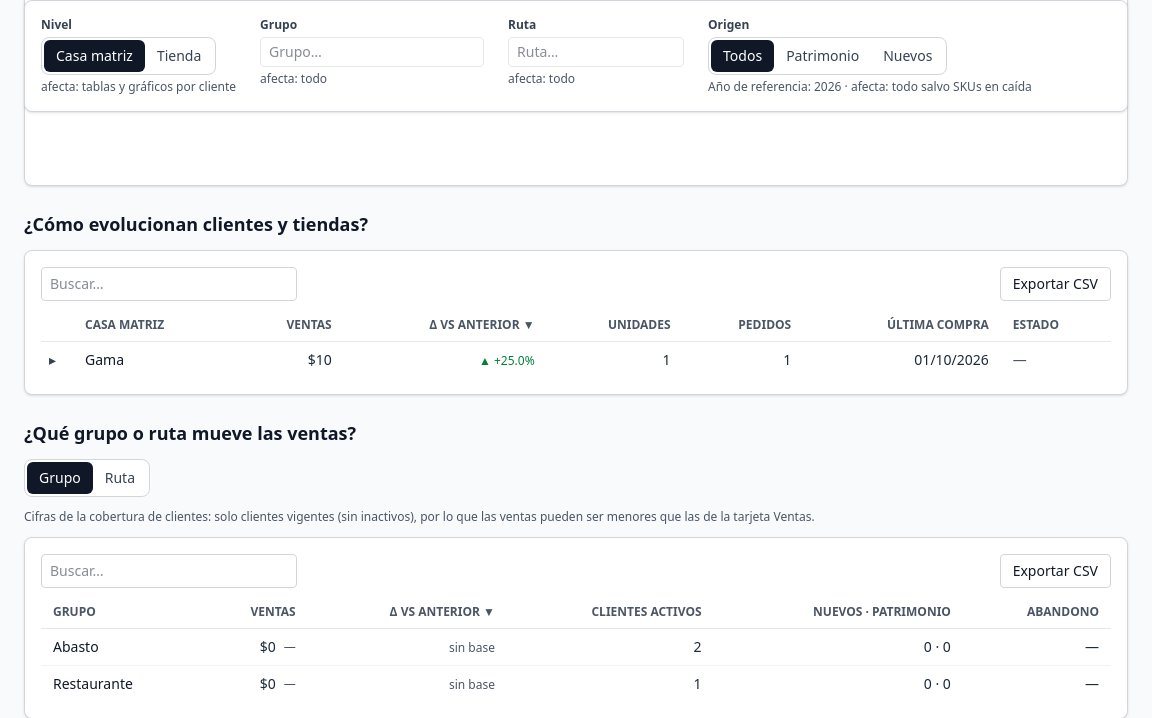
Test: TabClientes › opening a customer row shows its product evolution, scoped to that customer
This screenshot has width=1152, height=718.
(page scrolled)
Click the button named "Expandir".
click(52, 360)  # box [45,350,60,370]
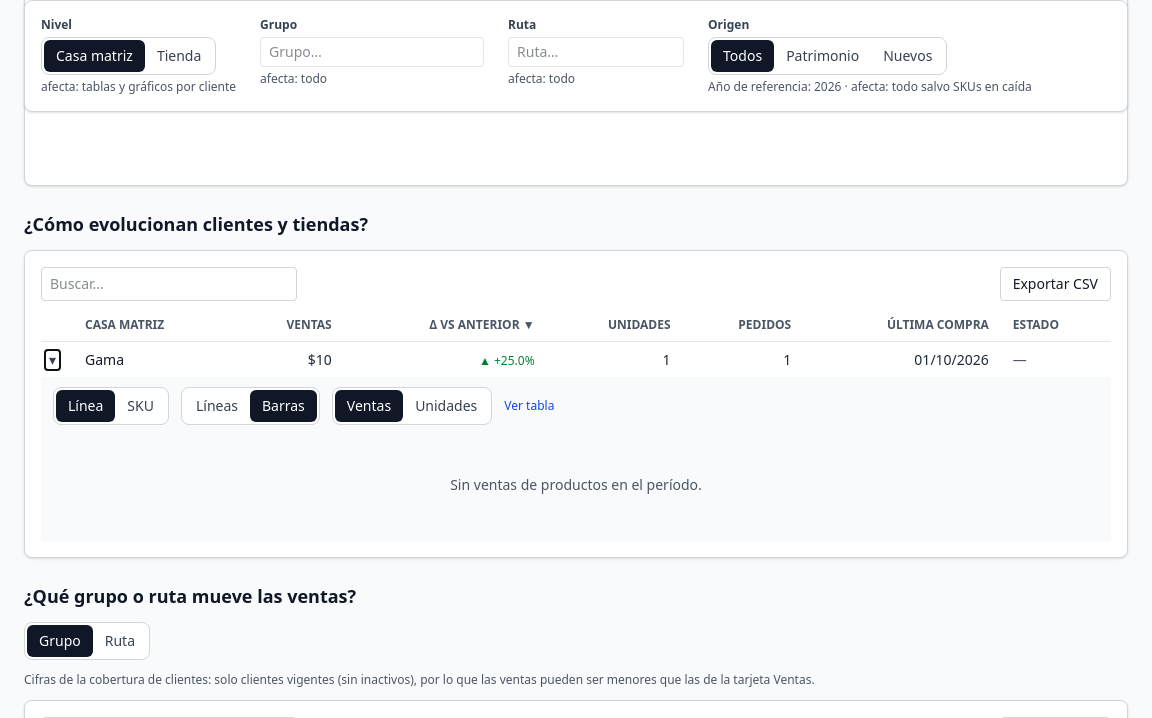
Now the text "Sin ventas de productos en el período." is shown, box [450,475,702,494]
